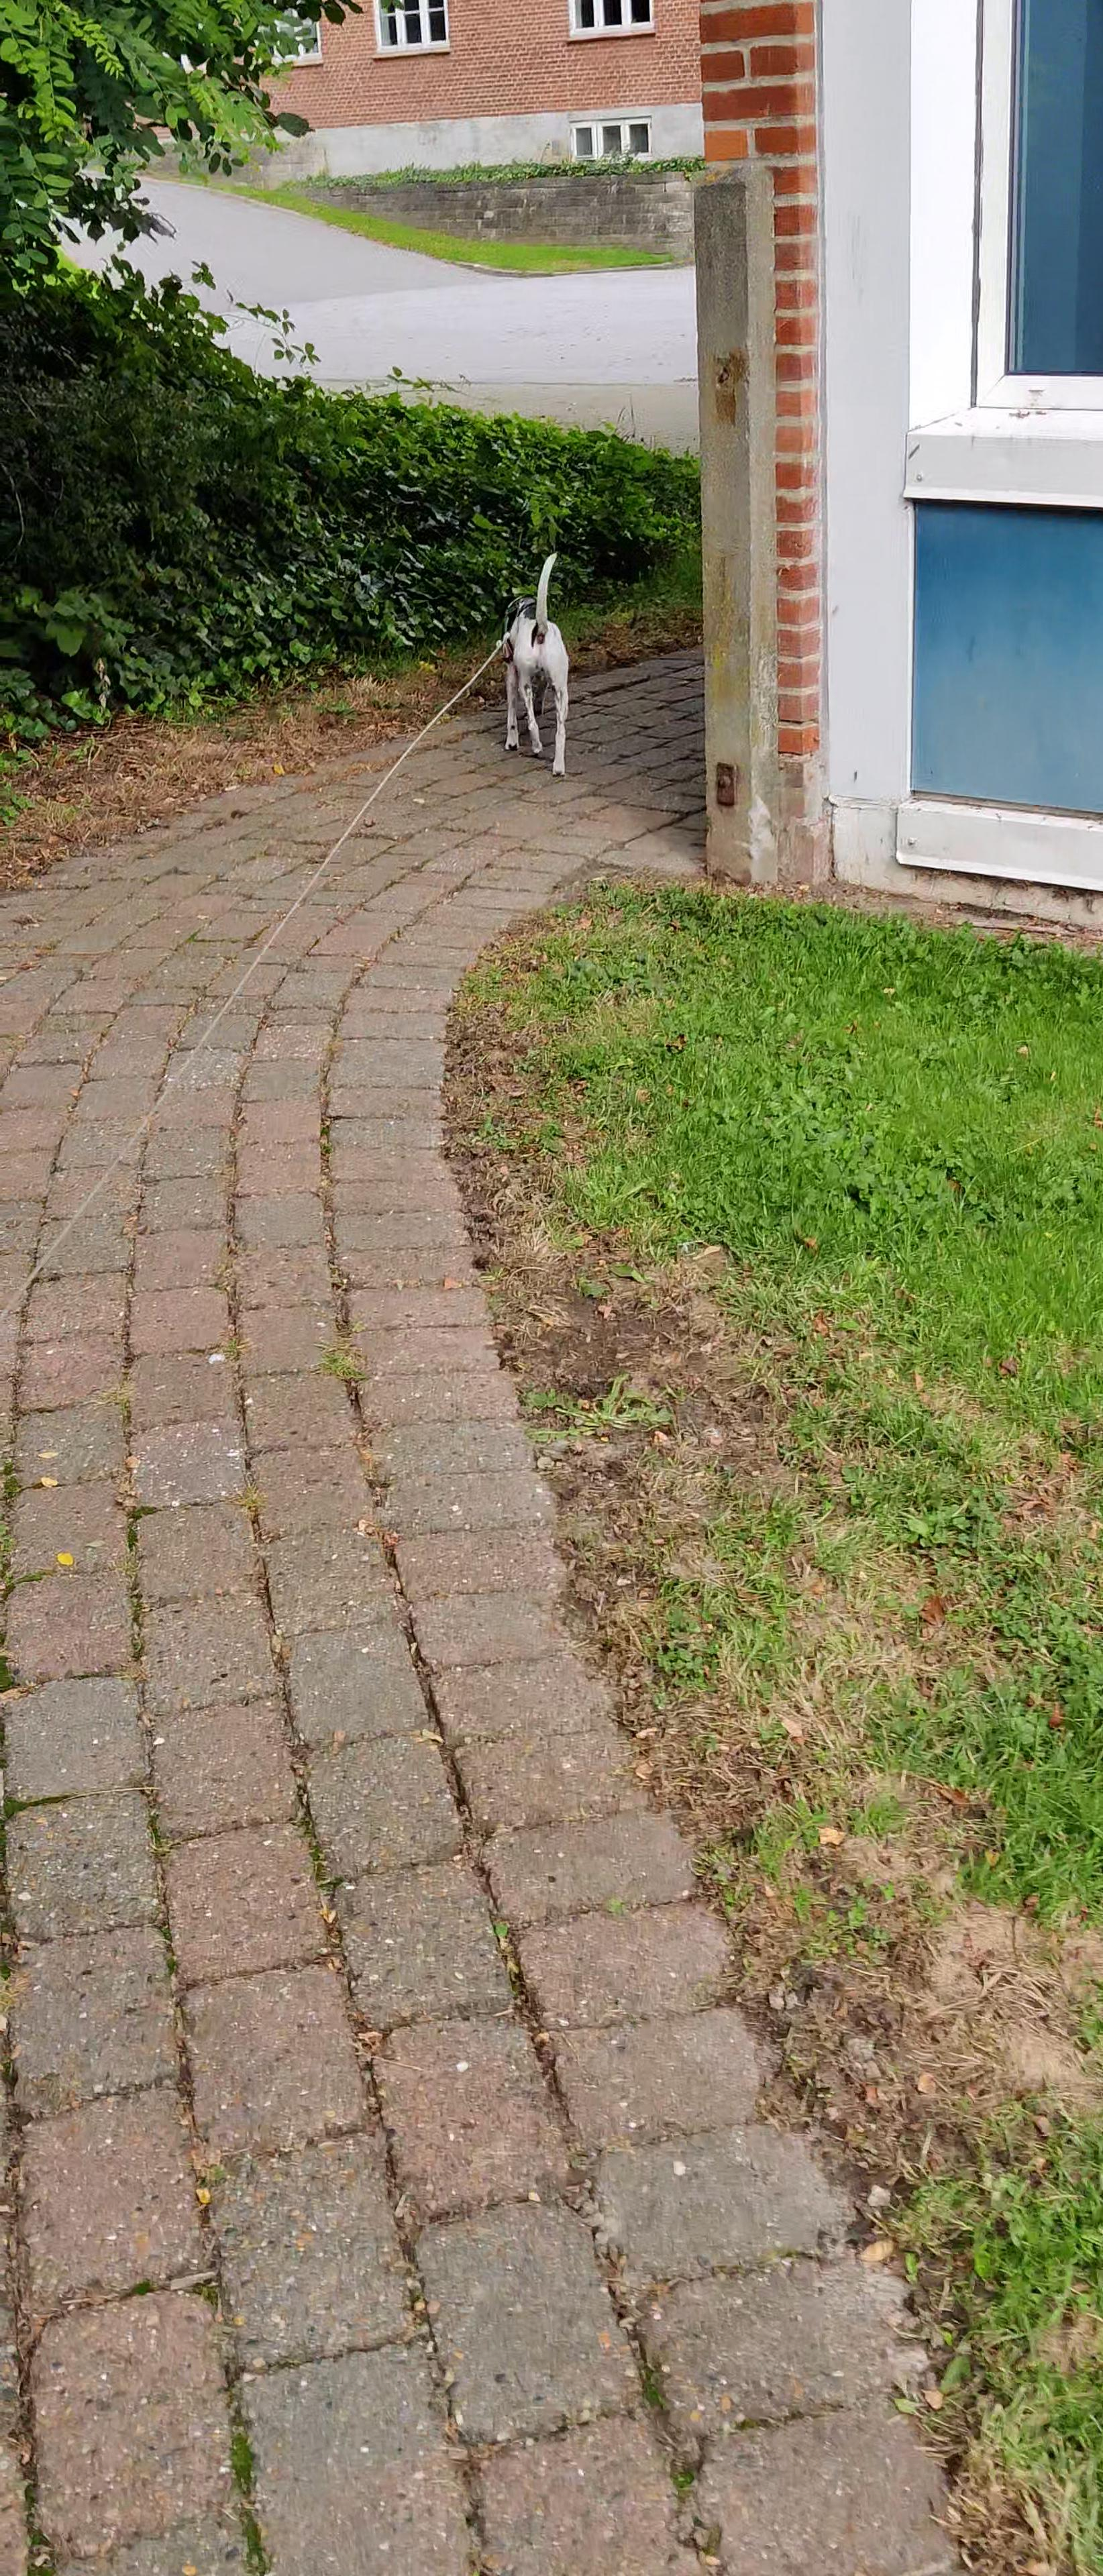Dog: (480, 531, 590, 792)
